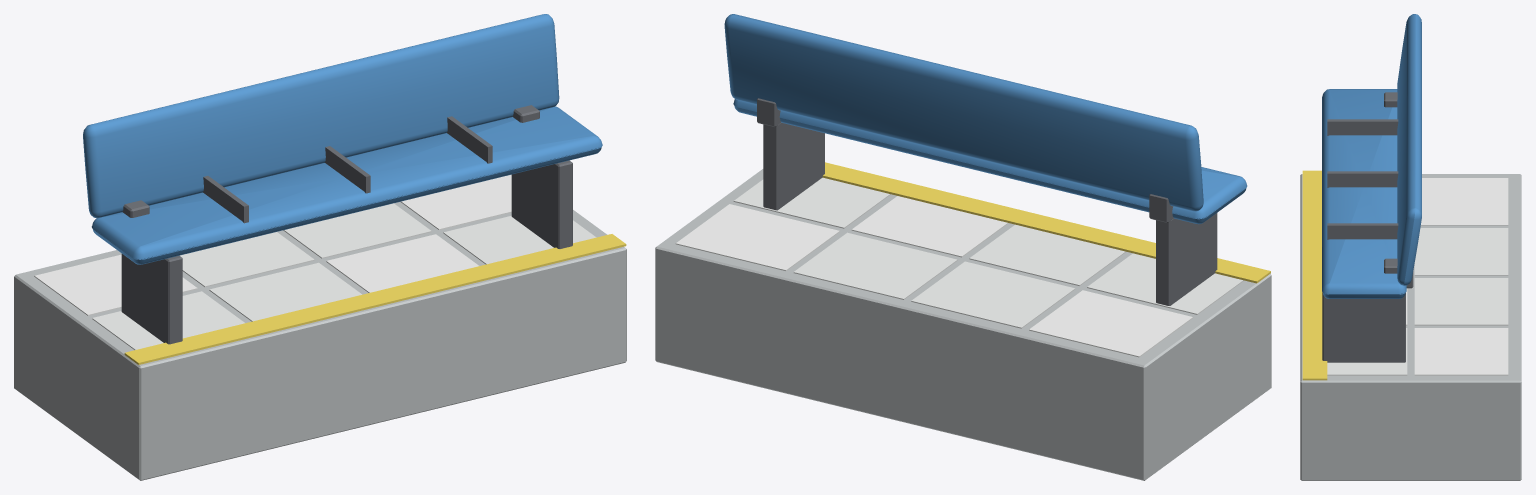
File: public-swimming-baths-and-poolside-viewing-gallery-sea-dcdf7e78__35279.glb
The picture shows the model from 3 angles, left to right: view 1: azimuth 30°, elevation 25°; view 2: azimuth 150°, elevation 25°; view 3: azimuth 270°, elevation 25°; orthographic projection. The views are drawn at different scales.
Parts seen in each view (by area): view 1: viewing-gallery-seating-tier; view 2: viewing-gallery-seating-tier; view 3: viewing-gallery-seating-tier.
Boxes of the visible parts, x1,y1,x2,y2 form: viewing-gallery-seating-tier: [14, 14, 626, 480]; viewing-gallery-seating-tier: [655, 14, 1271, 480]; viewing-gallery-seating-tier: [1300, 14, 1521, 480].
Size of the model in its own units: 2 by 1.19 by 0.9.
